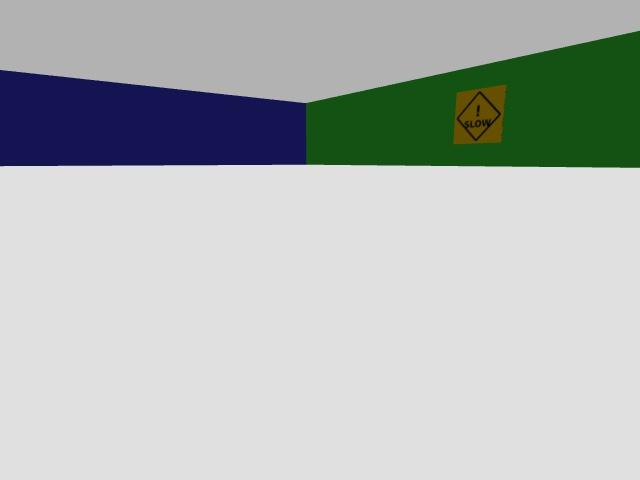slow: (454, 85, 505, 143)
